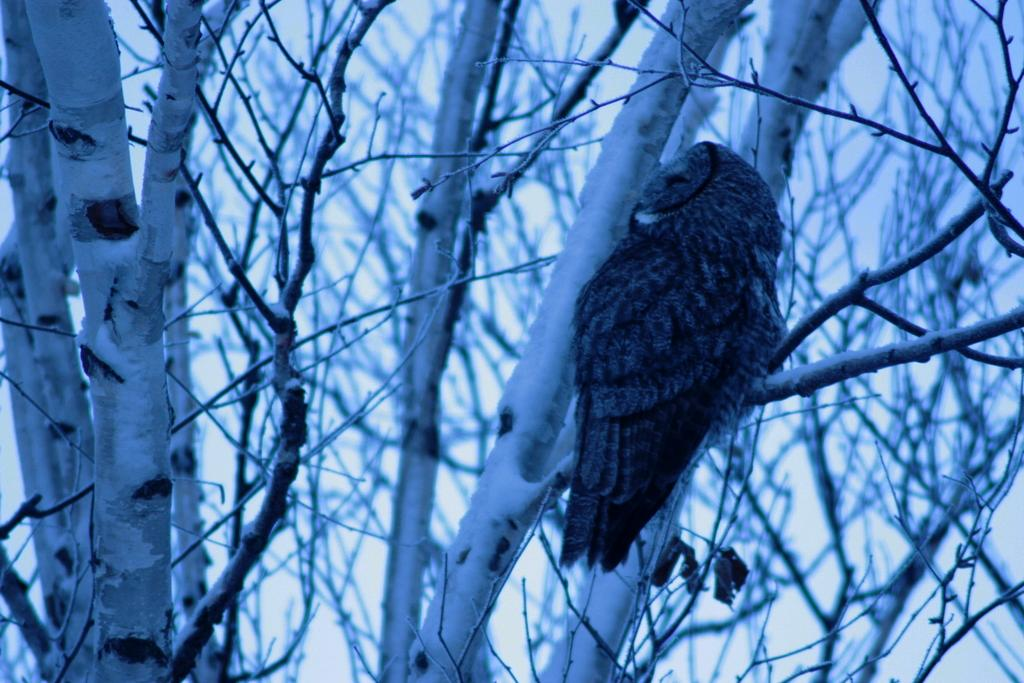Owl: (553, 142, 788, 576)
